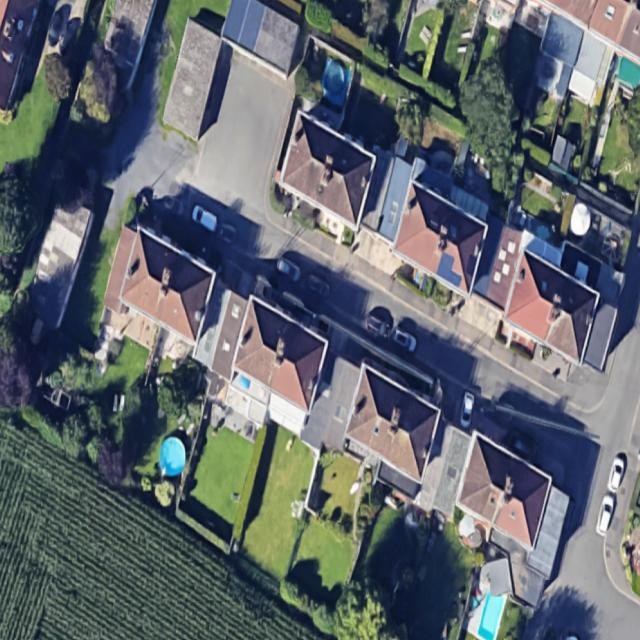maison: (396, 421, 601, 611), (180, 285, 370, 457), (351, 147, 531, 310), (297, 353, 478, 513), (80, 216, 255, 370), (475, 225, 633, 371), (260, 108, 410, 239)
